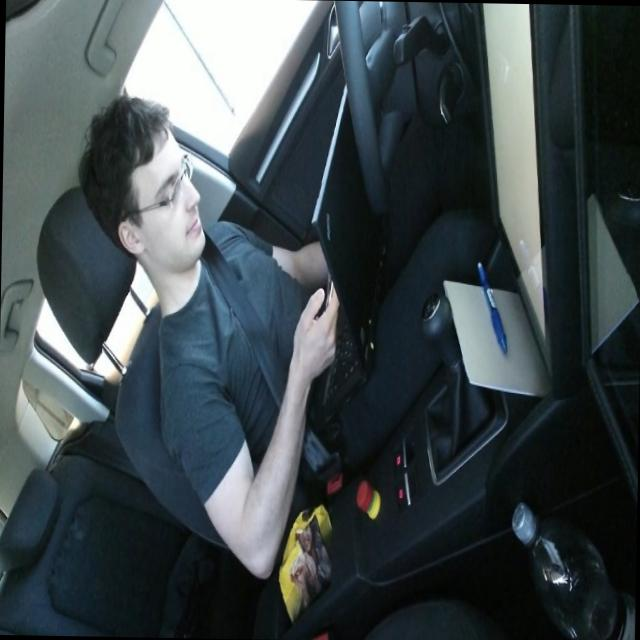pen: (474, 258, 509, 354)
